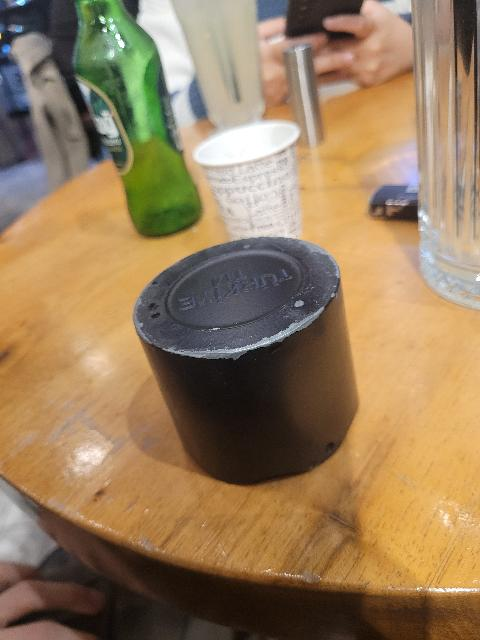Cam: (68, 0, 202, 235), (410, 3, 480, 312)
Kagit: (195, 119, 300, 240)
Metal: (129, 233, 363, 487), (284, 44, 322, 150)
